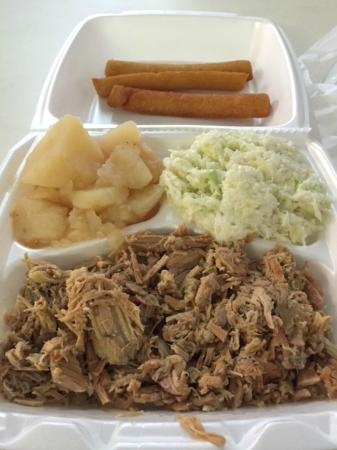boiled potatoes: (15, 126, 160, 245)
